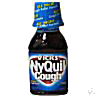grozi_49: (26, 0, 67, 96)
